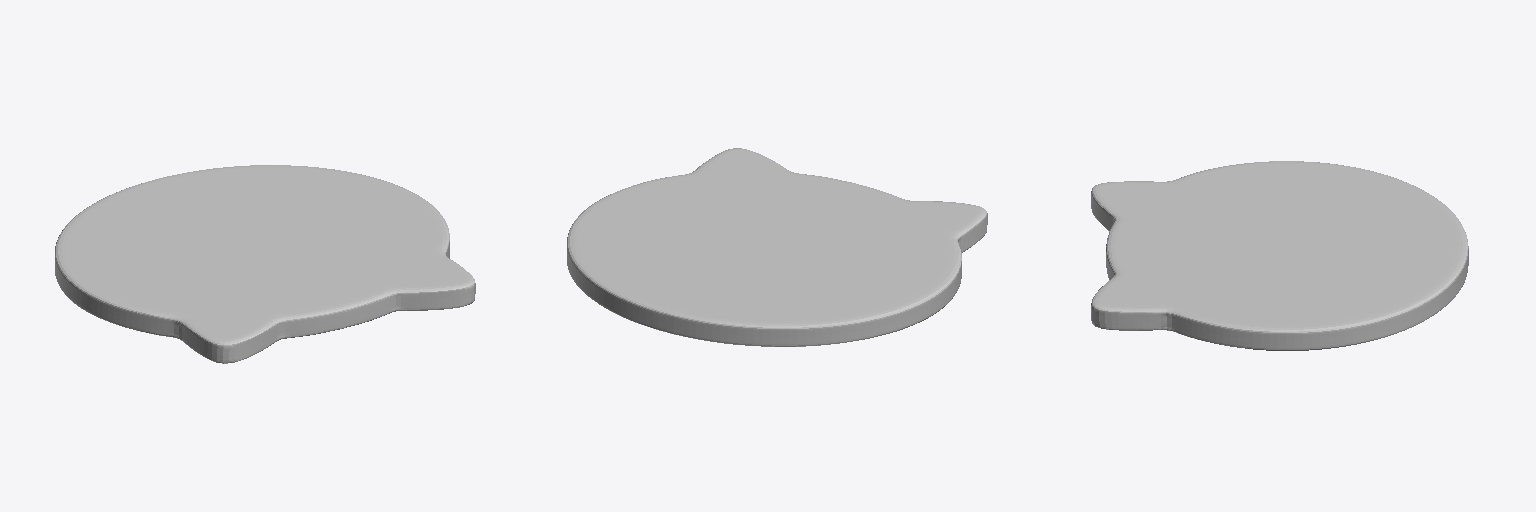
Rendered from new qizi.obj.
3 renders of one model, left to right at view 1: azimuth 30°, elevation 25°; view 2: azimuth 150°, elevation 25°; view 3: azimuth 270°, elevation 25°, orthographic.
Visible parts, largest first — view 1: _Group10022; view 2: _Group10022; view 3: _Group10022.
Boxes of the visible parts, box(x1,y1,x2,y2) form: _Group10022: box(55, 165, 475, 363); _Group10022: box(567, 148, 987, 346); _Group10022: box(1091, 161, 1468, 350).
Size of the model in its own units: 6.07 by 0.36 by 5.65.